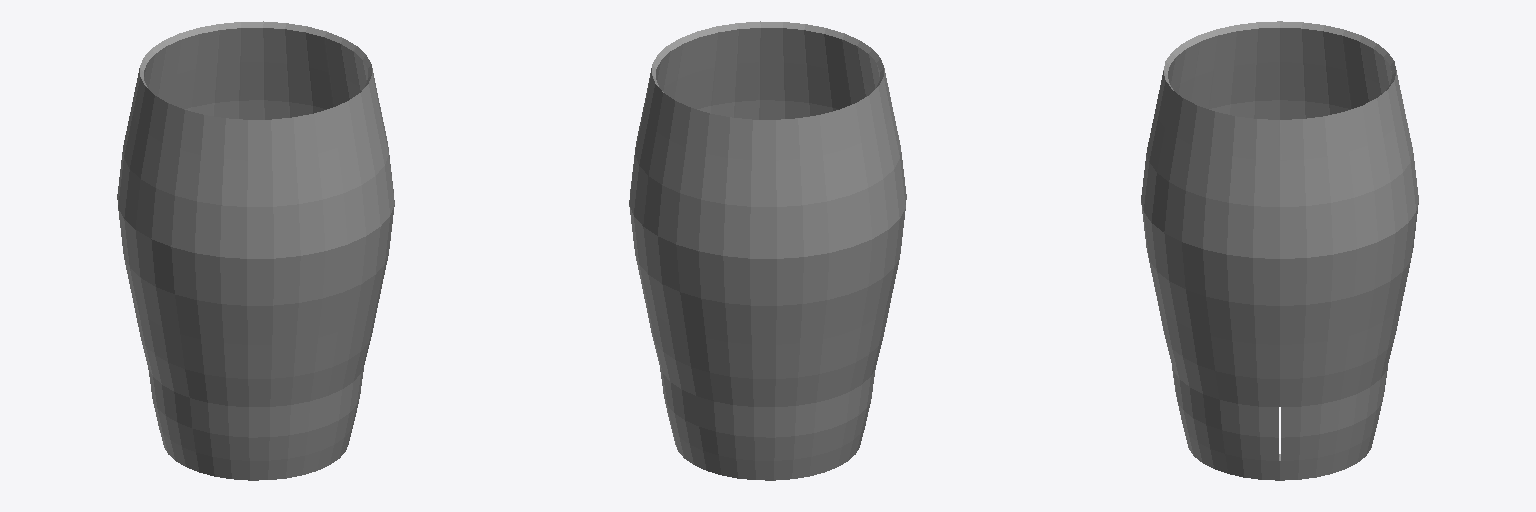
The model's file is Bucket.obj.
3 renders of one model, left to right at view 1: azimuth 30°, elevation 25°; view 2: azimuth 150°, elevation 25°; view 3: azimuth 270°, elevation 25°, orthographic.
Parts seen in each view (by area): view 1: Cylinder; view 2: Cylinder; view 3: Cylinder.
Part boxes in pixels (x1,y1,x2,y2): Cylinder: (117, 21, 394, 480); Cylinder: (629, 21, 906, 480); Cylinder: (1141, 21, 1418, 480).
Size of the model in its own units: 3.72 by 5.47 by 3.72.